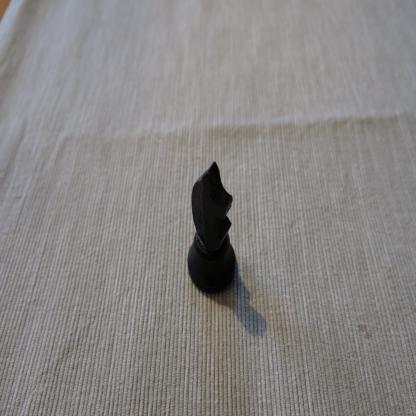black-knight: (186, 160, 238, 295)
